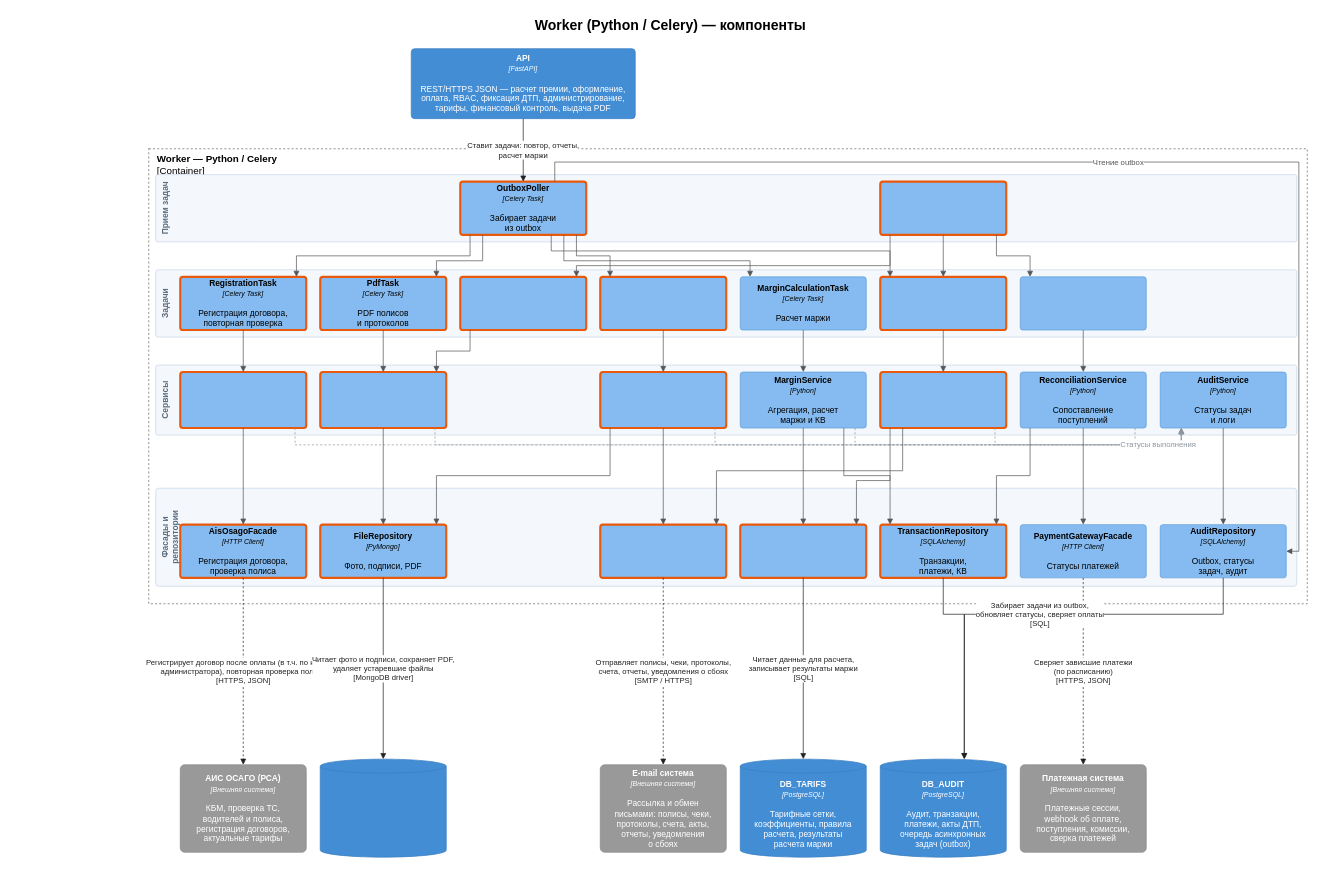
This 1340x869 diagram has some shape labels left out. Each missing label, with the centre of its shape:
ContractService [Python] Регистрация договора в АИС после оплаты: the point at 243,400
DB_FILES [MongoDB] Фото ДТП, подписи, документы (PDF полисов и протоколов): the point at 383,807
DocumentService [Python] Сборка PDF, очистка файлов: the point at 383,400
EmailFacade [SMTP Client] Полисы, чеки, счета, отчеты, уведомления: the point at 663,551
FileCleanupTask [Celery Task] Удаление устаревших файлов: the point at 523,303
Gateway ReconciliationTask [Celery Task] Сверка платежей: the point at 1083,303
NotificationService [Python] Шаблоны писем и вложения: the point at 663,400
NotificationTask [Celery Task] Письма: полисы, чеки, протоколы, сбои: the point at 663,303
ReportService [Python] Отчеты по марже, счета и акты: the point at 943,400
ReportTask [Celery Task] Отчеты, счета и акты: the point at 943,303
Scheduler [Celery Beat] Задачи по расписанию: the point at 943,208
TariffRepository [SQLAlchemy] Данные для расчета, результаты маржи: the point at 803,551
